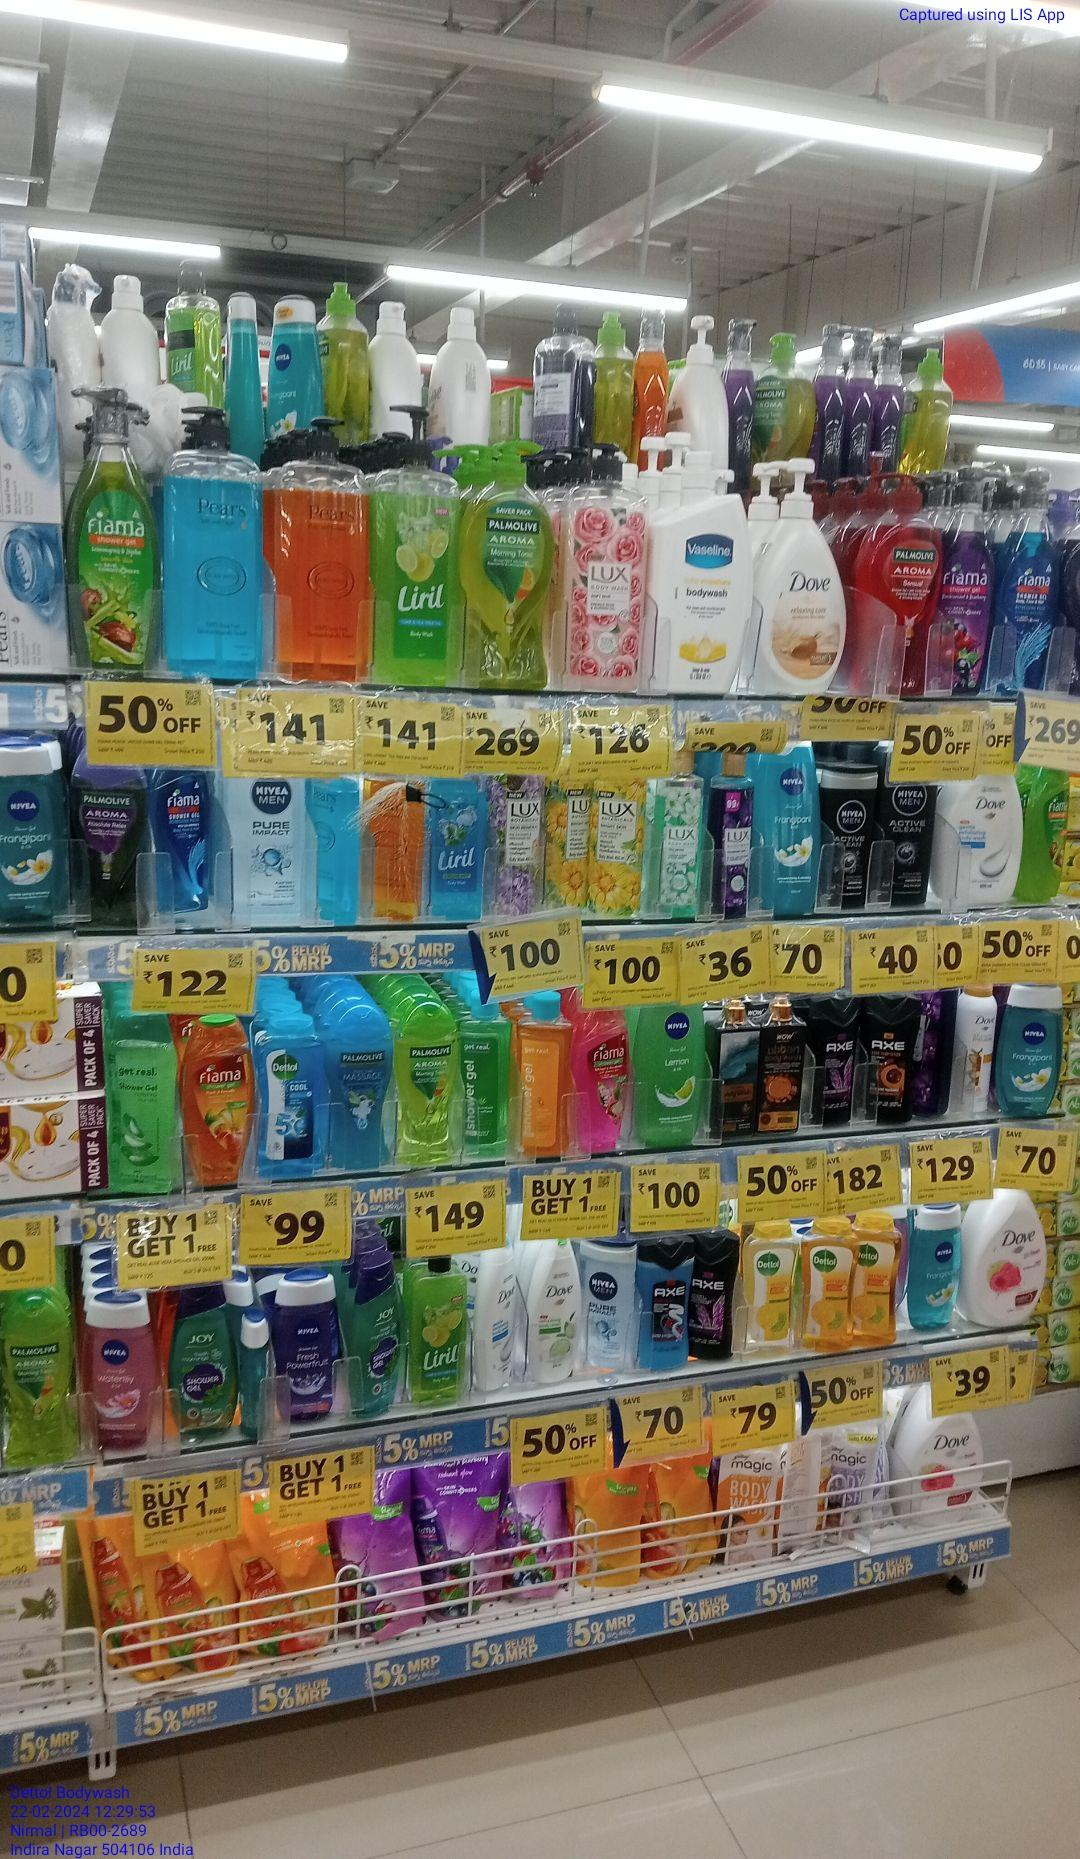Dettol_Bodywash_Cool: (256, 1009, 324, 1178)
Dettol_Bodywash_Refresh: (801, 1216, 854, 1349), (856, 1210, 899, 1345)
Dettol_Nourish_Body_Wash_250ML: (742, 1220, 793, 1350)
Dove_Gentle_Exfoliating_Body_Wash_250ML: (476, 1246, 519, 1391)
Dove_Refreshing_Body_Wash_250ML: (528, 1237, 584, 1385)
Fiama_Shower_Gel_Patchouli_and_Macadamia_250ML: (566, 1008, 626, 1153)
Fiama_Shower_Gel_Peach_and_Avocado_250ML: (183, 1009, 249, 1188)
Joy_Shower_Gel_Mint_and_Eucalyptus_250ML: (168, 1283, 234, 1437), (348, 1251, 404, 1417)
Liril_Cooling_Mint_Body_Wash_250ML: (426, 779, 489, 919)
Liril_Lime_and_Tea_Tree_Oil_Body_Wash_250ML: (413, 1253, 465, 1404)
Lux_Black_Orchid_Scent_and_Juniper_Oil_Body_Wash_245ML: (707, 747, 751, 918)
Lux_Body_Wash_Skin_Detox_Freesia_Scent_and_Alove_Vera_245ML: (645, 752, 703, 917)
Nivea_Shower_Gel_Frangipani_and_Oil_250ML: (0, 738, 67, 922), (760, 735, 818, 918), (265, 297, 327, 436), (999, 982, 1062, 1116), (909, 1203, 959, 1332)
Nivea_Shower_Gel_Fresh_Powerfruit_250ML: (271, 1268, 341, 1424)
Nivea_Shower_Gel_Lemon_and_Oil_250ML: (633, 1005, 701, 1143)
Nivea_Shower_Gel_Waterlily_and_Oil_250ML: (86, 1288, 158, 1444)
Palmolive_Aroma_Moments_Feel_The_Massage_Shower_Gel_250ML: (329, 1000, 391, 1174)
Palmolive_Aroma_Morning_Tonic_Shower_Gel_250ML: (0, 1292, 80, 1464), (396, 1001, 460, 1166)
Palmolive_Aroma_Relax_250ML: (76, 748, 147, 932)
Pears_Pure_Glycerin_and_Mint_Extracts_Body_Wash_250ML: (307, 770, 360, 931)
